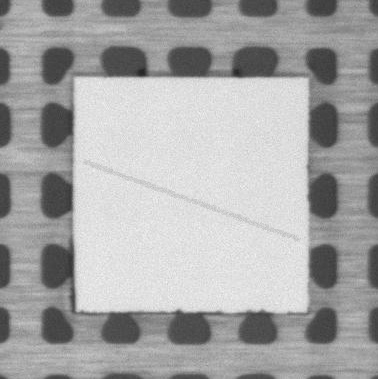DIE_CRACK: (85, 162, 297, 240)
